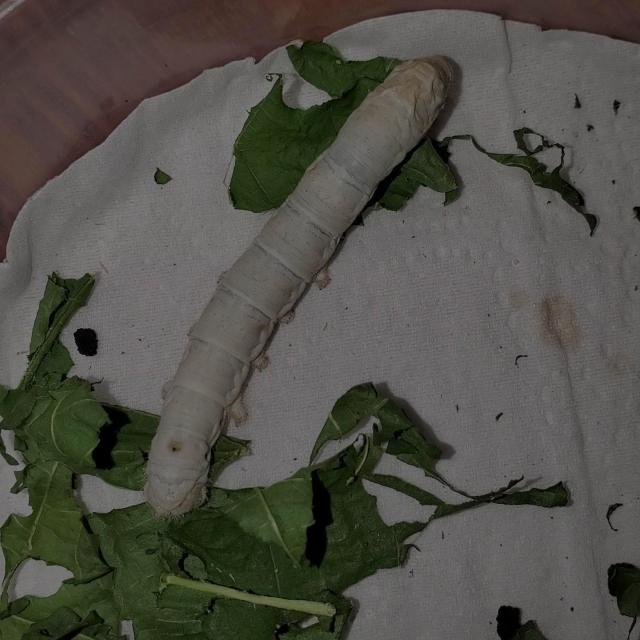Healthy: (98, 41, 513, 550)
